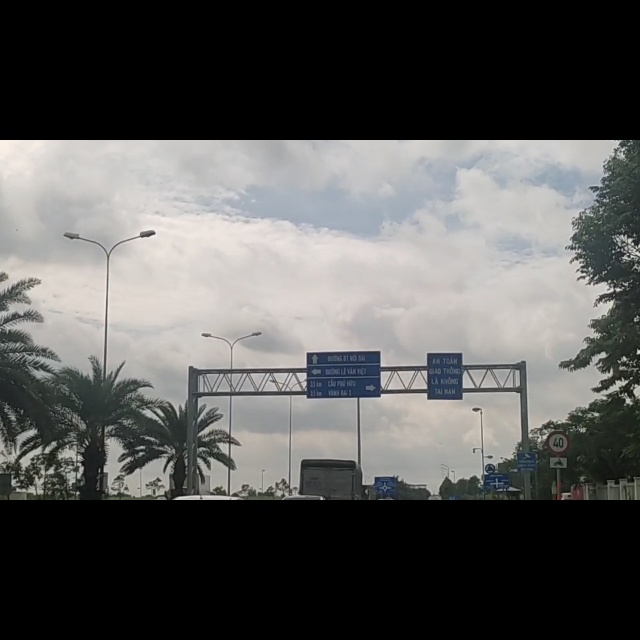bien_chi_dan: (546, 519, 569, 559), (548, 559, 569, 585)
